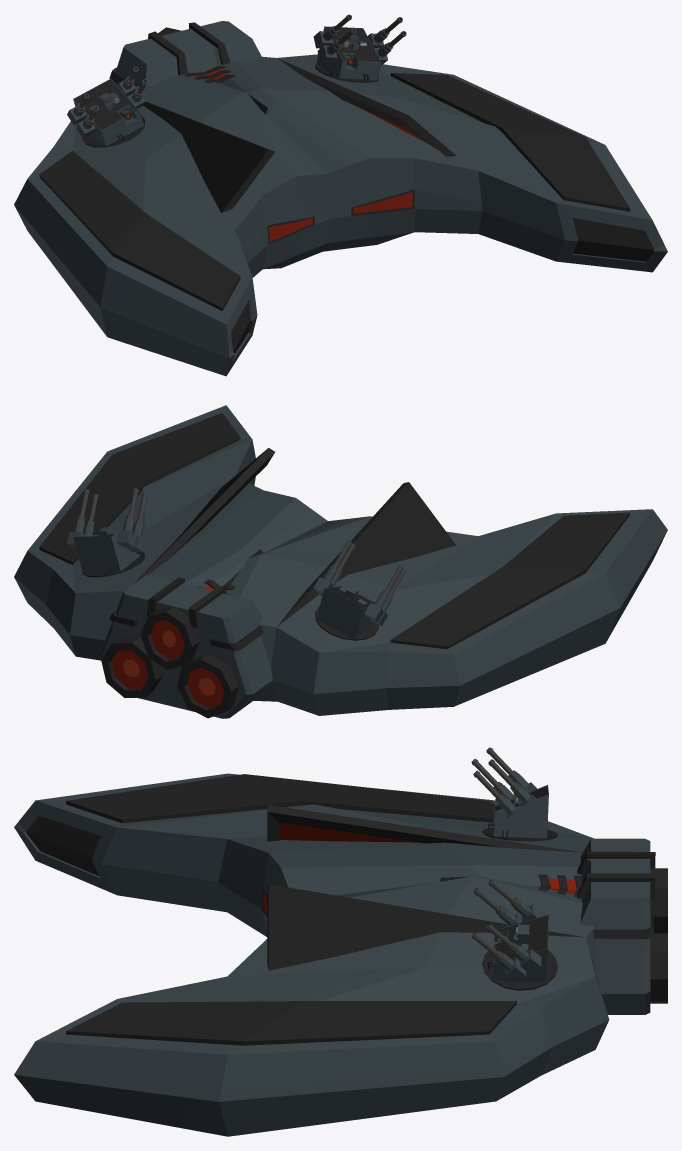
Rendered from Carrier.fbx.
3 views of the same model, one above another, from view 1: azimuth 30°, elevation 25°; view 2: azimuth 150°, elevation 25°; view 3: azimuth 270°, elevation 25° (orthographic). The views are drawn at different scales.
Parts seen in each view (by area): view 1: Cube, Turret.R, Turret.L; view 2: Cube, Turret.L, Turret.R, Platform.R; view 3: Cube, Turret.L, Turret.R, Platform.L.
Part boxes in pixels (x1,y1,x2,y2): Cube: (14, 21, 667, 376); Turret.R: (67, 66, 147, 146); Turret.L: (313, 14, 406, 80); Cube: (14, 405, 667, 718); Turret.L: (67, 488, 147, 572); Turret.R: (313, 540, 406, 638); Platform.R: (315, 605, 378, 640); Cube: (14, 773, 667, 1136); Turret.L: (471, 879, 548, 983); Turret.R: (471, 747, 548, 838); Platform.L: (482, 946, 557, 990).
Bounding box in the file's own units: 384 × 115 × 362.
Materials: 1 (1 with a texture image).
